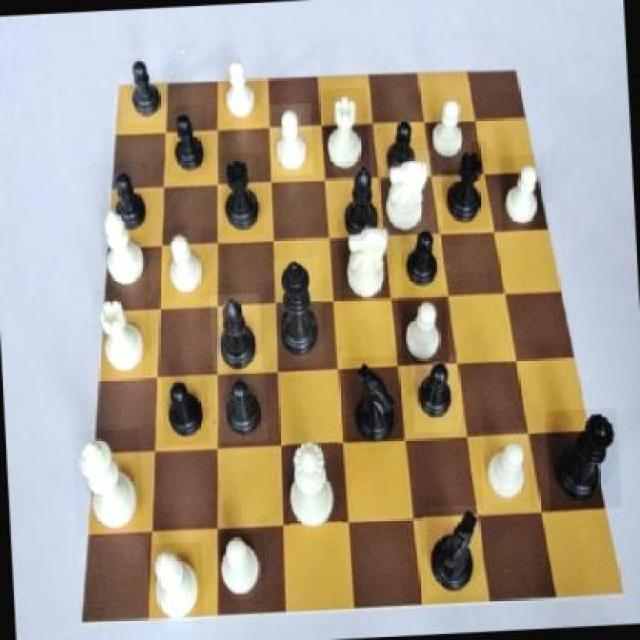bishop: (338, 160, 388, 251), (210, 293, 262, 372)
black-bishop: (272, 258, 326, 368)
black-king: (423, 506, 486, 599), (344, 356, 404, 446)
black-knight: (98, 162, 152, 239), (411, 356, 461, 434), (120, 46, 165, 126), (216, 374, 268, 443), (162, 377, 210, 448), (165, 105, 209, 177), (398, 229, 439, 296), (386, 114, 423, 184)
black-pawn: (544, 408, 620, 512)
black-queen: (440, 140, 491, 230), (220, 154, 265, 237)
black-rook: (148, 542, 205, 626), (98, 204, 151, 294)
white-bishop: (72, 429, 145, 539)
white-king: (337, 218, 395, 306), (382, 151, 438, 238)
white-knight: (478, 429, 531, 512), (498, 154, 548, 233), (423, 91, 473, 170), (217, 532, 269, 606), (398, 292, 449, 365), (217, 52, 264, 126), (163, 225, 210, 298), (270, 103, 316, 176)
white-pawn: (286, 430, 343, 532)
white-queen: (94, 288, 154, 380), (322, 88, 372, 178)
